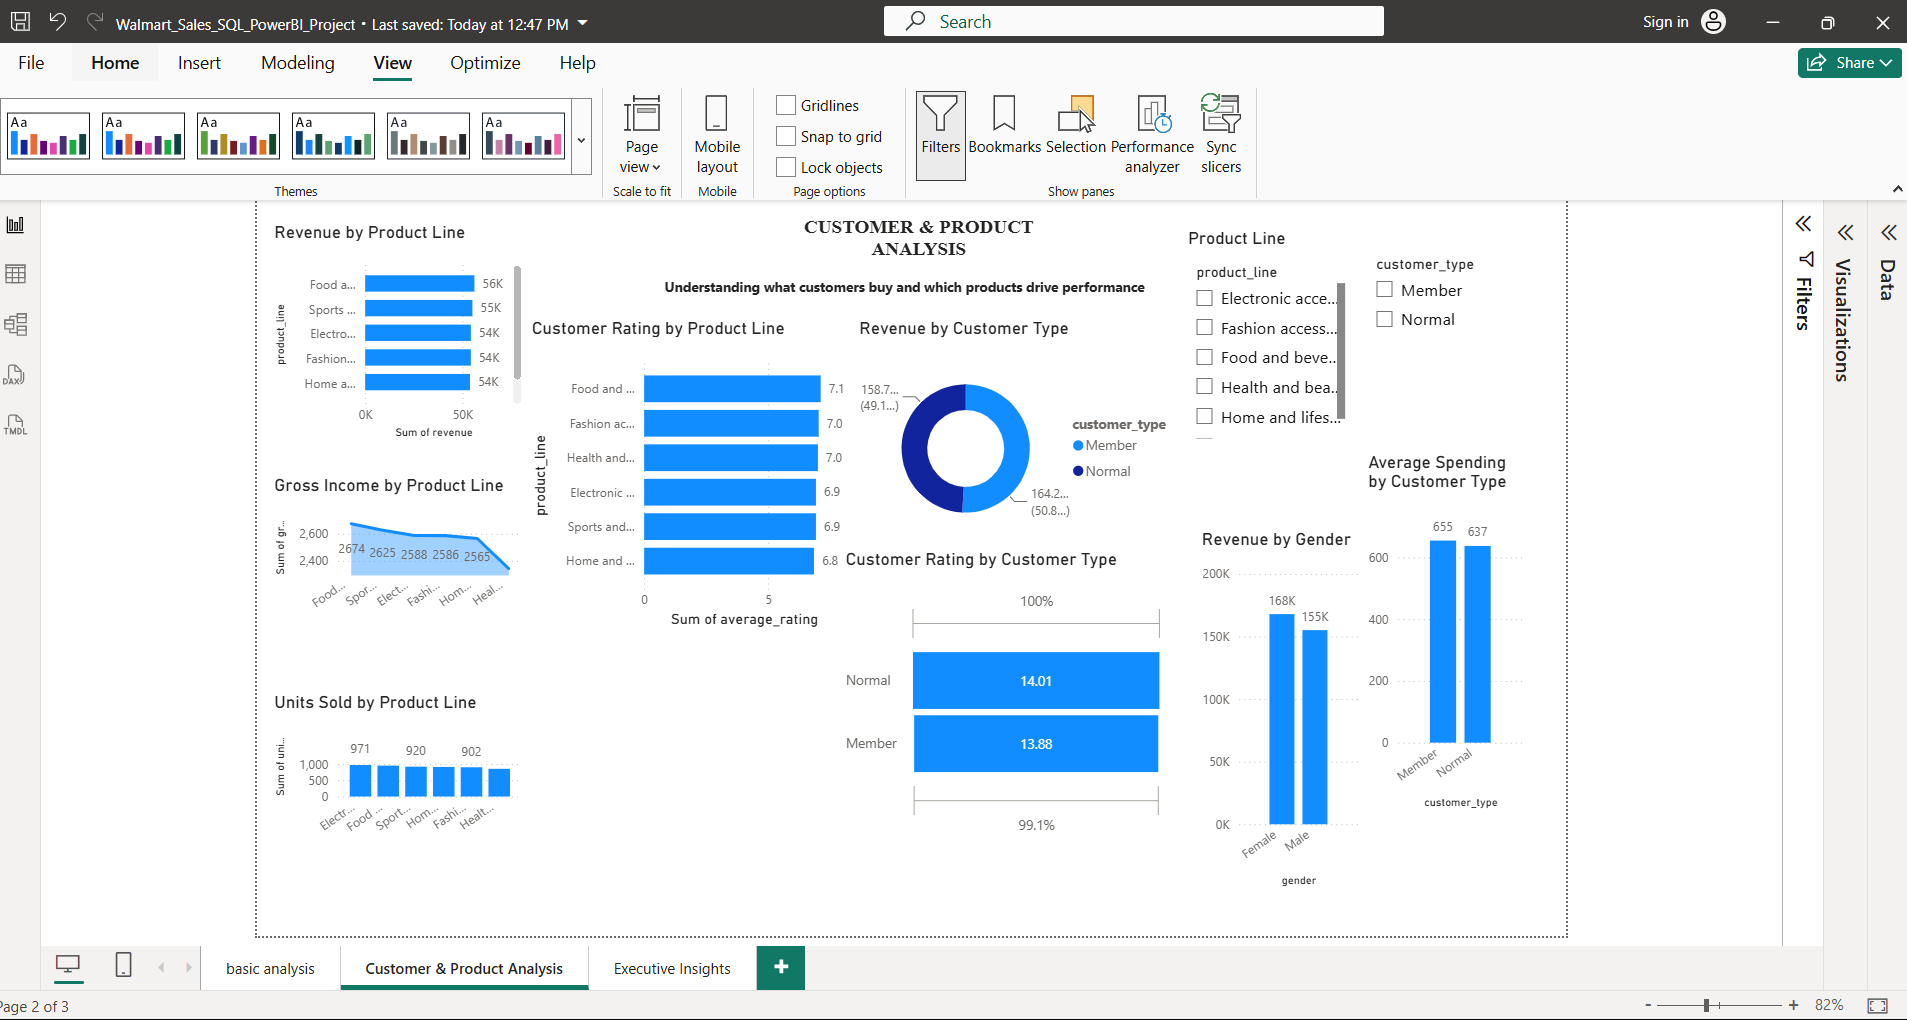

The dashboard page shown, as its layout file describes it:
{"tool":"powerbi","page":{"name":"Customer & Product Analysis","canvas":[1280,720],"ordinal":1},"visuals":[{"type":"textbox","box":[486.7,10.5,281.5,77.9],"z":0},{"type":"textbox","box":[393.8,70.4,525.6,37.4],"z":1000},{"type":"barChart","title":"Revenue by Product Line","fields":{"Category":["walmart_sales vw_dashboard_product.product_line"],"Y":["Sum(walmart_sales vw_dashboard_product.revenue)"]},"box":[12,21,251.6,217.1],"z":2000},{"type":"stackedAreaChart","title":"Gross Income by Product Line","fields":{"Category":["walmart_sales vw_dashboard_product.product_line"],"Y":["Sum(walmart_sales vw_dashboard_product.gross_income)"]},"box":[12,269.5,251.6,142.3],"z":3000},{"type":"lineStackedColumnComboChart","title":"Units Sold by Product Line","fields":{"Category":["walmart_sales vw_dashboard_product.product_line"],"Y":["Sum(walmart_sales vw_dashboard_product.units_sold)"]},"box":[12,481,252,150],"z":4000},{"type":"barChart","title":"Customer Rating by Product Line","fields":{"Category":["walmart_sales vw_dashboard_product.product_line"],"Y":["Sum(walmart_sales vw_dashboard_product.average_rating)"]},"box":[263.5,115.3,320.5,308.5],"z":5000},{"type":"donutChart","title":"Revenue by Customer Type","fields":{"Category":["walmart_sales vw_customer_analysis.customer_type"],"Y":["Sum(walmart_sales vw_customer_analysis.revenue)"]},"box":[584,115.3,321.9,226.1],"z":6000},{"type":"columnChart","title":"Revenue by Gender","fields":{"Category":["walmart_sales vw_customer_analysis.gender"],"Y":["Sum(walmart_sales vw_customer_analysis.revenue)"]},"box":[919.4,321.9,163.2,354.9],"z":7000},{"type":"columnChart","title":"Average Spending by Customer Type","fields":{"Category":["walmart_sales vw_customer_analysis.customer_type"],"Y":["Sum(walmart_sales vw_customer_analysis.average_transaction)"]},"box":[1082.6,245.6,161.7,354.9],"z":8000},{"type":"funnel","title":"Customer Rating by Customer Type","fields":{"Category":["walmart_sales vw_customer_analysis.customer_type"],"Y":["Sum(walmart_sales vw_customer_analysis.average_rating)"]},"box":[570.5,341.4,321.9,289],"z":9000},{"type":"slicer","title":"Product Line","fields":{"Values":["walmart_sales vw_dashboard_product.product_line"]},"box":[905.9,27,163.2,211.1],"z":10000},{"type":"slicer","fields":{"Values":["walmart_sales vw_customer_analysis.customer_type"]},"box":[1082.6,49.4,149.7,101.8],"z":11000}]}

Visuals, with their boxes on the page's 1280x720 design canvas (x1, y1, x2, y2). These are canvas units, not pixel positions in the 1907x1020 screenshot, which may show the page scaled, cropped or inside an application window:
textbox: locate(487, 10, 768, 88)
textbox: locate(394, 70, 919, 108)
"Revenue by Product Line" barChart: locate(12, 21, 264, 238)
"Gross Income by Product Line" stackedAreaChart: locate(12, 270, 264, 412)
"Units Sold by Product Line" lineStackedColumnComboChart: locate(12, 481, 264, 631)
"Customer Rating by Product Line" barChart: locate(264, 115, 584, 424)
"Revenue by Customer Type" donutChart: locate(584, 115, 906, 341)
"Revenue by Gender" columnChart: locate(919, 322, 1083, 677)
"Average Spending by Customer Type" columnChart: locate(1083, 246, 1244, 600)
"Customer Rating by Customer Type" funnel: locate(570, 341, 892, 630)
"Product Line" slicer: locate(906, 27, 1069, 238)
slicer - walmart_sales vw_customer_analysis.customer_type: locate(1083, 49, 1232, 151)
